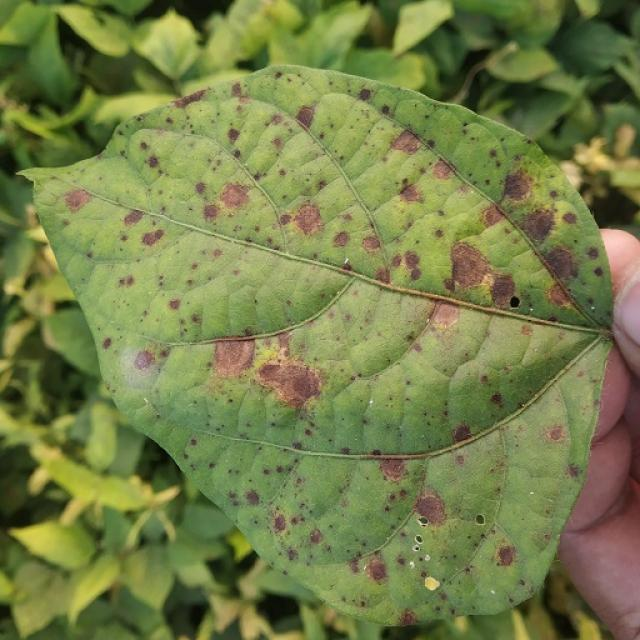Anthracnose: (256, 356, 325, 409), (407, 486, 456, 537), (212, 336, 257, 378), (539, 244, 577, 284), (520, 206, 557, 244), (502, 169, 535, 204), (292, 204, 324, 237), (219, 182, 252, 212), (488, 273, 517, 306), (431, 302, 461, 328), (171, 87, 207, 108), (391, 130, 422, 154), (379, 457, 407, 482), (63, 188, 92, 212), (364, 555, 388, 583), (133, 348, 156, 371), (141, 228, 164, 247), (495, 545, 515, 566), (123, 208, 145, 227), (296, 106, 315, 128), (452, 424, 472, 444), (361, 234, 382, 253), (403, 251, 421, 271), (545, 425, 565, 442), (332, 231, 350, 248), (399, 610, 417, 626), (272, 514, 287, 533), (203, 204, 219, 221), (244, 489, 260, 506), (227, 127, 241, 144), (566, 463, 581, 478), (309, 529, 323, 545), (120, 275, 135, 288), (490, 392, 503, 406), (358, 88, 372, 101), (167, 298, 181, 310), (147, 155, 159, 168), (286, 548, 298, 561), (520, 324, 533, 336), (101, 337, 112, 349), (341, 260, 352, 272), (593, 266, 604, 277), (339, 446, 351, 455), (189, 438, 197, 446), (519, 579, 526, 586)
Blackgram: (22, 66, 624, 624)
